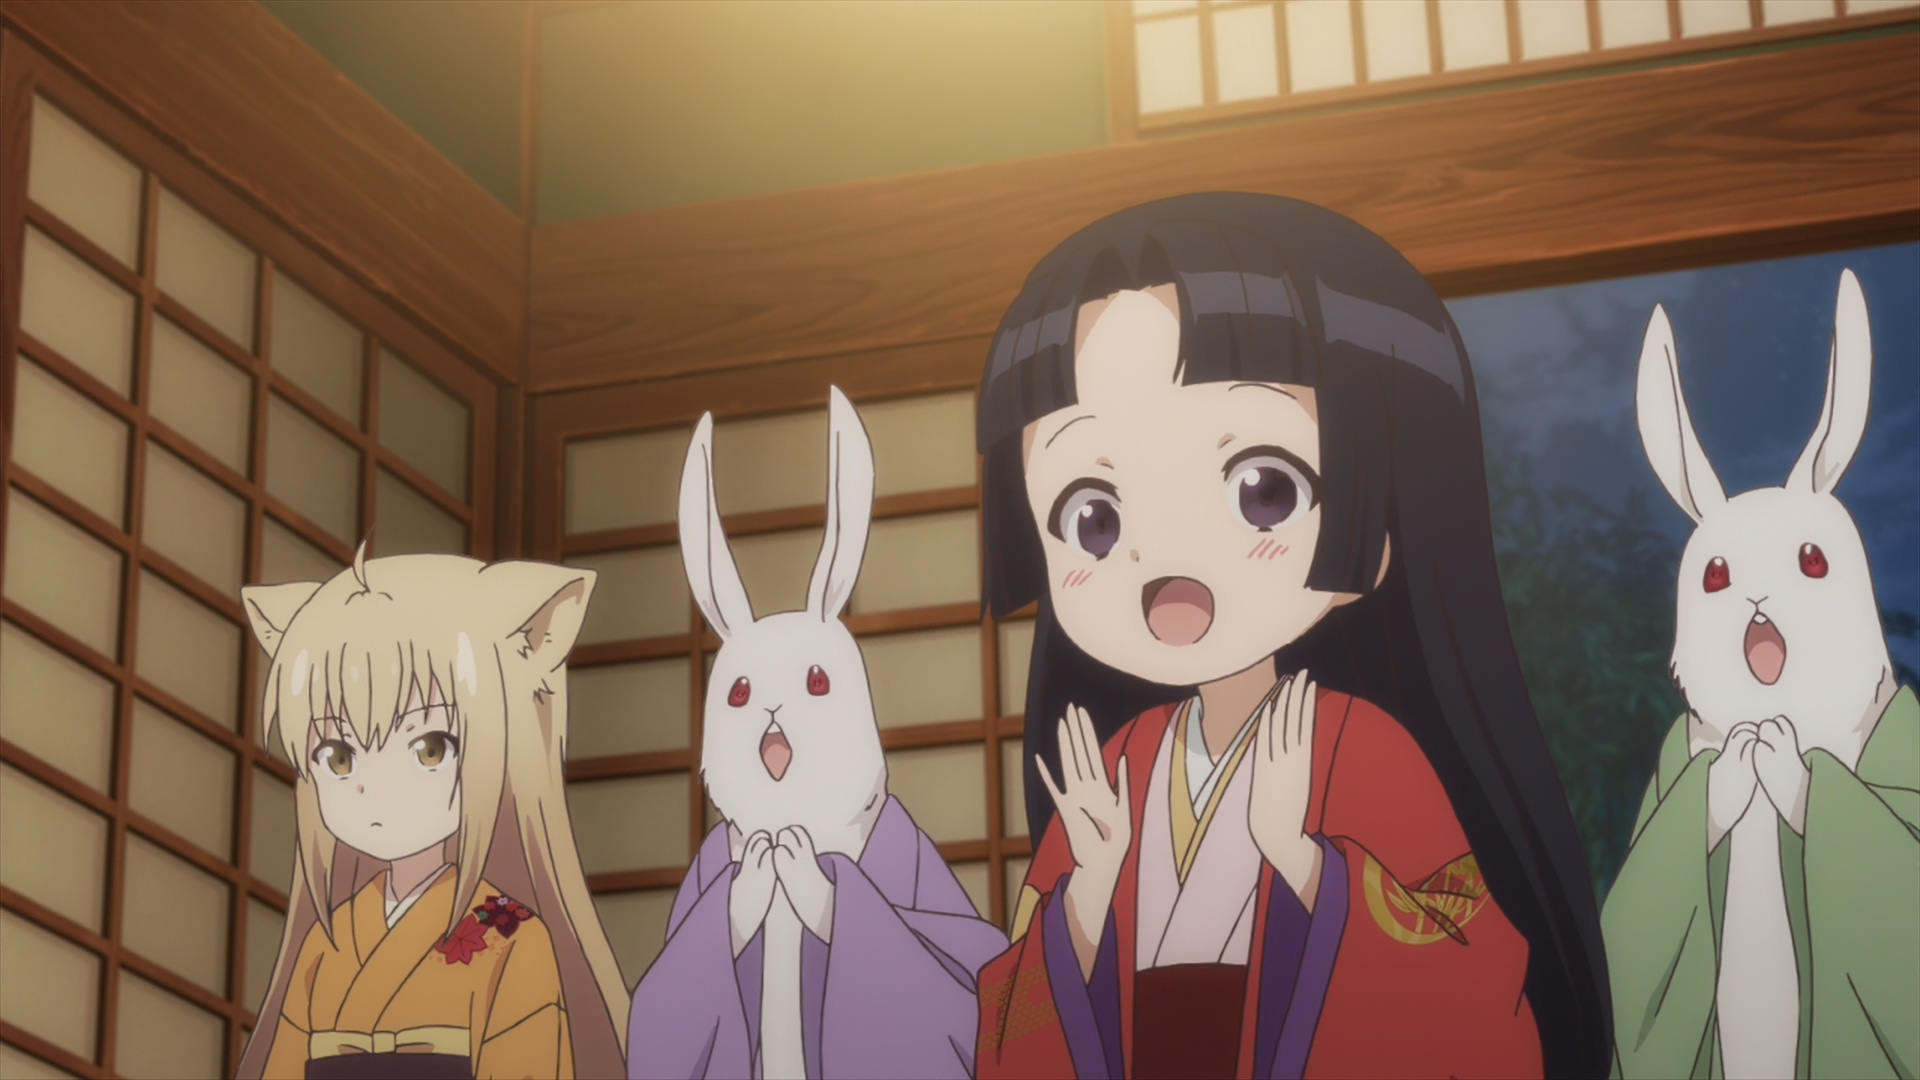其他: (975, 193, 1615, 1080), (626, 386, 1010, 1080), (1600, 269, 1920, 1080)
柚: (237, 535, 626, 1080)
